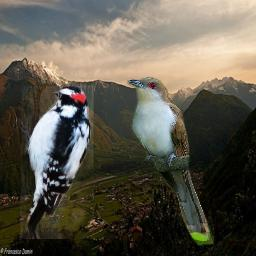Cuckoo: (127, 77, 214, 246)
Woodpecker: (18, 86, 95, 239)
